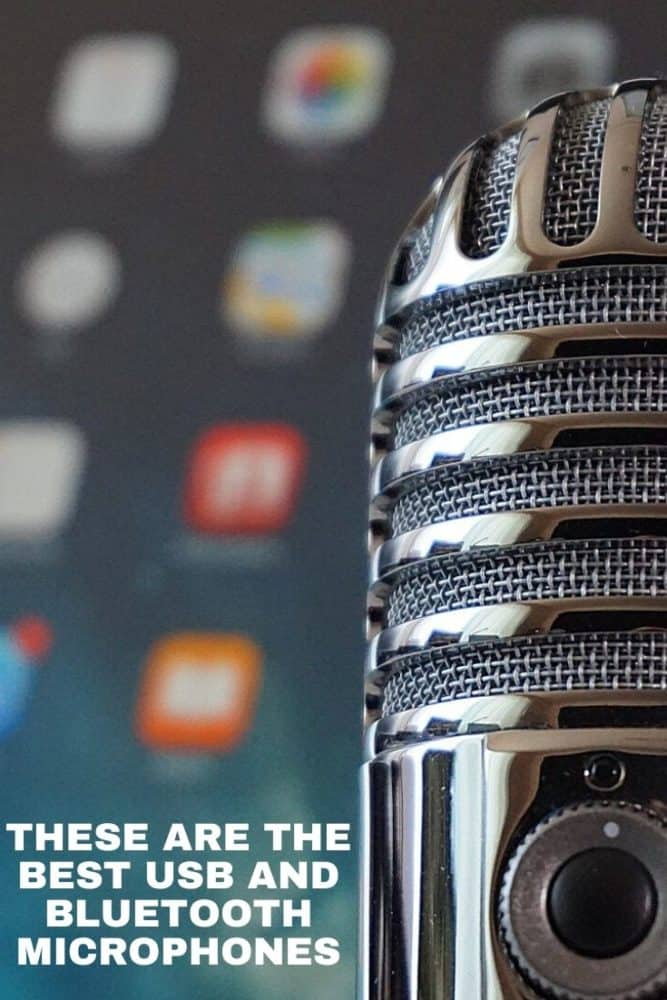microphone: (355, 70, 665, 1000)
